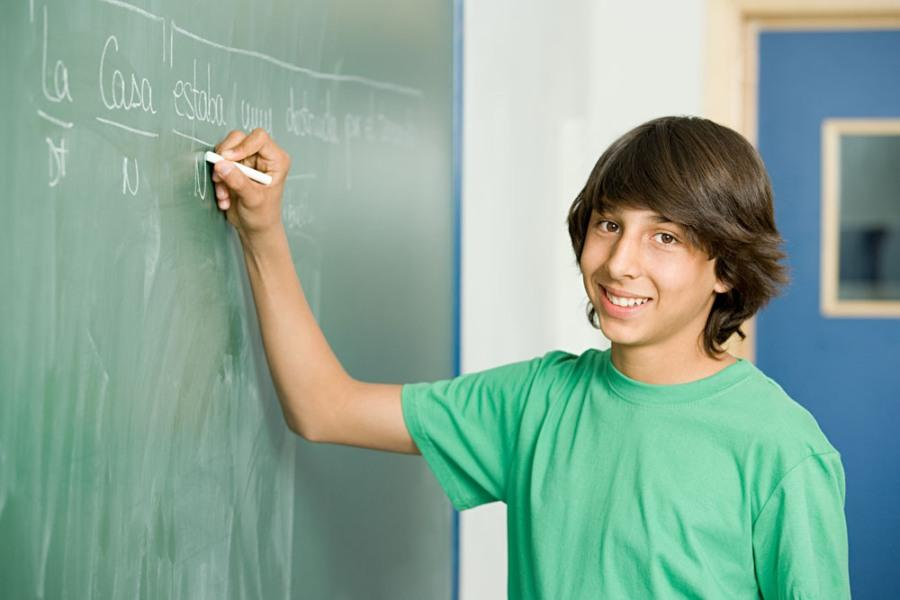person: (213, 115, 854, 600)
